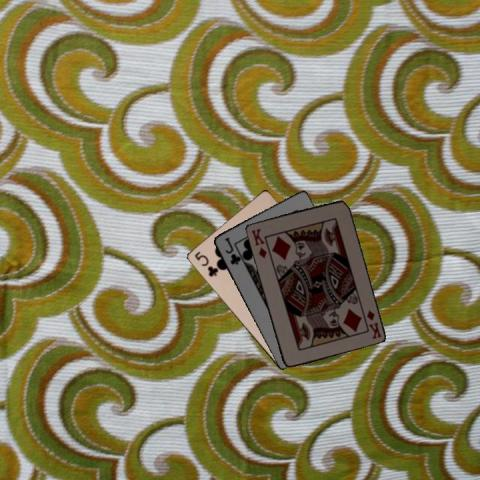5c: (191, 248, 219, 278)
Jc: (222, 234, 242, 266)
Kd: (248, 225, 268, 260), (363, 307, 383, 340)
